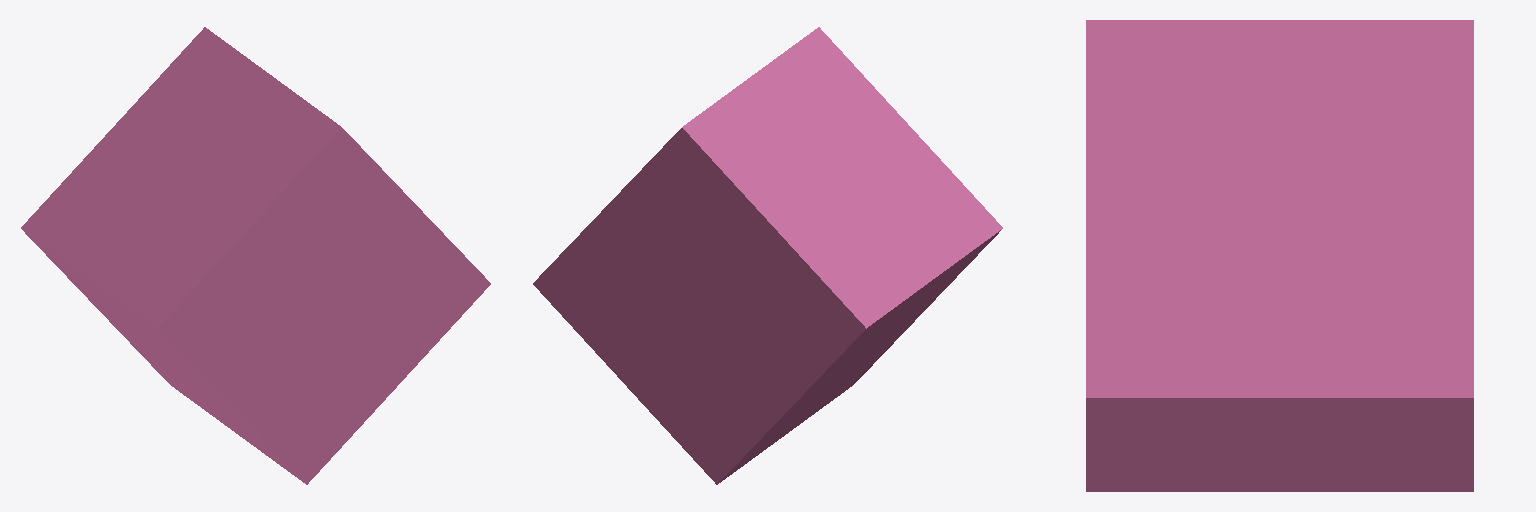
URDF robot description (zx120):
<?xml version="1.0" encoding="utf-8"?>
<!-- =================================================================================== -->
<!-- |    This document was autogenerated by xacro from zx120.xacro                    | -->
<!-- |    EDITING THIS FILE BY HAND IS NOT RECOMMENDED                                 | -->
<!-- =================================================================================== -->
<robot name="zx120">
  <!-- ros_control plugin -->
  <gazebo>
    <plugin filename="libgazebo_ros_control.so" name="gazebo_ros_control">
      <!-- <robotNamespace>/zx120</robotNamespace>
			<robotSimType>gazebo_ros_control/DefaultRobotHWSim</robotSimType> -->
    </plugin>
  </gazebo>
  <gazebo reference="track_link">
    <material>zx120texture</material>
  </gazebo>
  <gazebo reference="body_link">
    <material>zx120texture</material>
  </gazebo>
  <gazebo reference="boom_link">
    <material>zx120texture</material>
  </gazebo>
  <gazebo reference="arm_link">
    <material>zx120texture</material>
  </gazebo>
  <gazebo reference="bucket_link">
    <material>zx120texture</material>
  </gazebo>
  <gazebo reference="bucket_link">
    <material>zx120texture</material>
  </gazebo>
  <gazebo reference="boom_cylinder_head_link">
    <material>zx120texture</material>
  </gazebo>
  <gazebo reference="boom_cylinder_rod_link">
    <material>zx120texture</material>
  </gazebo>
  <gazebo reference="arm_cylinder_head_link">
    <material>zx120texture</material>
  </gazebo>
  <gazebo reference="arm_cylinder_rod_link">
    <material>zx120texture</material>
  </gazebo>
  <gazebo reference="bucket_cylinder_head_link">
    <material>zx120texture</material>
  </gazebo>
  <gazebo reference="bucket_cylinder_rod_link">
    <material>zx120texture</material>
  </gazebo>
  <gazebo reference="bucket_b_link">
    <material>zx120texture</material>
  </gazebo>
  <gazebo reference="bucket_a_link">
    <material>zx120texture</material>
  </gazebo>
  <!-- Import Rviz colors -->
  <!-- <xacro:include filename="$(find zx120_description)/urdf/materials.xacro" /> -->
  <!-- Base Link -->
  <link name="base_link"/>
  <joint name="base_joint" type="fixed">
      <origin rpy="0 0 0" xyz="0 0 0.01"/>
    <parent link="base_link"/>
    <child link="track_link"/>
  </joint>
  <!-- Base Link -->
  <link name="track_link">
    <visual>
      <geometry>
        <mesh filename="package://zx120_description/meshes/zx120-crawler.dae"/>
      </geometry>
    </visual>
    <collision>
      <geometry>
        <mesh filename="package://zx120_description/meshes/zx120-crawler.dae"/>
      </geometry>
    </collision>
    <inertial>
      <origin rpy="0 0 0" xyz="-0.155869 0 0.358402"/>
      <mass value="1"/>
      <inertia ixx="1.0" ixy="0.0" ixz="0.0" iyy="1.0" iyz="0.0" izz="1.0"/>
    </inertial>
  </link>
  <!-- body axis -->
  <joint name="swing_joint" type="continuous">
    <origin xyz="0 0 1"/>
    <axis xyz="0 0 2"/>
    <parent link="track_link"/>
    <child link="body_link"/>
  </joint>
  <link name="body_link">
    <visual>
      <origin xyz="0 0 0"/>
      <geometry>
        <mesh filename="package://zx120_description/meshes/zx120-body.dae"/>
      </geometry>
    </visual>
    <collision>
      <origin xyz="0 0 0"/>
      <geometry>
        <mesh filename="package://zx120_description/meshes/zx120-body.dae"/>
      </geometry>
    </collision>
    <inertial>
      <origin rpy="0 0 0" xyz="-0.501522 0 1.191169"/>
      <mass value="0.03"/>
      <inertia ixx="1.0" ixy="0.0" ixz="0.0" iyy="1.0" iyz="0.0" izz="1.0"/>
    </inertial>
  </link>
  <!-- boom axis -->
  <joint name="boom_joint" type="revolute">
    <origin rpy="0 1.57079632679 0" xyz="0.14 -0.16443 0.424"/>
    <axis xyz="0 1 0"/>
    <parent link="body_link"/>
    <child link="boom_link"/>
    <limit effort="500" lower="-1.2217304764" upper="0.767944870878" velocity="6.159937255"/>
  </joint>
  <link name="boom_link">
    <visual>
      <origin rpy="0 -1.185 0" xyz="0 0 0"/>
      <geometry>
        <mesh filename="package://zx120_description/meshes/zx120-boom.dae"/>
      </geometry>
    </visual>
    <collision>
      <origin rpy="0 -1.185 0" xyz="0 0 0"/>
      <geometry>
        <mesh filename="package://zx120_description/meshes/zx120-boom.dae"/>
      </geometry>
    </collision>
    <inertial>
      <origin rpy="0 0 0" xyz="2.091062 0.055029 0.975556"/>
      <mass value="0.03"/>
      <inertia ixx="1.0" ixy="0.0" ixz="0.0" iyy="1.0" iyz="0.0" izz="1.0"/>
    </inertial>
  </link>
  <joint name="arm_joint" type="revolute">
    <!-- <origin xyz="3.91812248 0 2.410044861"/> -->
    <origin xyz="0 0 4.6"/>
    <axis xyz="0 1 0"/>
    <parent link="boom_link"/>
    <child link="arm_link"/>
    <!-- <limit lower="-1.279421828" upper="0.849879859" effort="500" velocity="6.159937255"/> -->
    <limit effort="1" lower="0.523598775598" upper="2.65290046303" velocity="0.5"/>
  </joint>
  <link name="arm_link">
    <visual>
      <origin rpy="0 3.28 0" xyz="0 0 0"/>
      <geometry>
        <mesh filename="package://zx120_description/meshes/zx120-arm.dae"/>
      </geometry>
    </visual>
    <collision>
      <origin rpy="0 3.28 0" xyz="0 0 0"/>
      <geometry>
        <mesh filename="package://zx120_description/meshes/zx120-arm.dae"/>
      </geometry>
    </collision>
    <inertial>
      <origin rpy="0 0 0" xyz="0.305996 0.000026 -0.912806"/>
      <mass value="0.03"/>
      <inertia ixx="1.0" ixy="0.0" ixz="0.0" iyy="1.0" iyz="0.0" izz="1.0"/>
    </inertial>
  </link>
  <!-- bucket axis -->
  <joint name="bucket_joint" type="revolute">
    <!-- <origin xyz="0.790541414 0 -2.391736874"/> -->
    <origin xyz="0 0 2.519"/>
    <axis xyz="0 1 0"/>
    <parent link="arm_link"/>
    <child link="bucket_link"/>
    <!-- <limit lower="-1.593223372" upper="1.478556111" effort="500" velocity="6.159937255"/> -->
    <limit effort="1" lower="-0.575958653158" upper="2.49582083035" velocity="0.5"/>
  </joint>
  <link name="bucket_link">
    <visual>
      <origin rpy="0 0.75 0" xyz="0 0 0"/>
      <geometry>
        <mesh filename="package://zx120_description/meshes/zx120-bucket.dae"/>
      </geometry>
    </visual>
    <collision>
      <origin rpy="0 0.75 0" xyz="0 0 0"/>
      <geometry>
        <mesh filename="package://zx120_description/meshes/zx120-bucket.dae"/>
      </geometry>
    </collision>
    <inertial>
      <origin rpy="0 0 0" xyz="-0.442405 0.001740 0.247894"/>
      <mass value="0.03"/>
      <inertia ixx="1.0" ixy="0.0" ixz="0.0" iyy="1.0" iyz="0.0" izz="1.0"/>
    </inertial>
  </link>
  <link name="bucket_end_link">
    <visual>
      <origin rpy="0 0 0" xyz="0 0 0"/>
      <geometry>
        <box size="0.001 0.001 0.001"/>
      </geometry>
      <material name="red"/>
    </visual>
    <inertial>
      <origin xyz="0 0 0"/>
      <mass value="1.0e-03"/>
      <inertia ixx="1.0e-03" ixy="0.0" ixz="0.0" iyy="1.0e-03" iyz="0.0" izz="1.0e-03"/>
    </inertial>
  </link>
  <joint name="bucket_end_joint" type="revolute">
    <parent link="bucket_link"/>
    <child link="bucket_end_link"/>
    <axis xyz="1 0 0"/>
    <!-- <origin rpy="0 0 0" xyz="0 0 1.23"/> -->
    <!-- <origin rpy="0 0 0" xyz="-0.723 0 0.995"/> -->
    <!-- <origin rpy="0 0 0" xyz="-0.85 0 0.889"/> -->
    <origin rpy="0 0.872664625997 0" xyz="0 0 1.23"/>
    <limit effort="1" lower="-3.14" upper="3.14" velocity="0.5"/>
  </joint>
  <transmission name="tran1">
    <type>transmission_interface/SimpleTransmission</type>
    <joint name="swing_joint">
      <hardwareInterface>hardware_interface/PositionJointInterface</hardwareInterface>
    </joint>
    <actuator name="motor1">
      <hardwareInterface>hardware_interface/PositionJointInterface</hardwareInterface>
      <mechanicalReduction>1</mechanicalReduction>
    </actuator>
  </transmission>
  <transmission name="tran2">
    <type>transmission_interface/SimpleTransmission</type>
    <joint name="boom_joint">
      <hardwareInterface>hardware_interface/PositionJointInterface</hardwareInterface>
    </joint>
    <actuator name="motor2">
      <hardwareInterface>hardware_interface/PositionJointInterface</hardwareInterface>
      <mechanicalReduction>1</mechanicalReduction>
    </actuator>
  </transmission>
  <transmission name="tran3">
    <type>transmission_interface/SimpleTransmission</type>
    <joint name="arm_joint">
      <hardwareInterface>hardware_interface/PositionJointInterface</hardwareInterface>
    </joint>
    <actuator name="motor3">
      <hardwareInterface>hardware_interface/PositionJointInterface</hardwareInterface>
      <mechanicalReduction>1</mechanicalReduction>
    </actuator>
  </transmission>
  <transmission name="tran4">
    <type>transmission_interface/SimpleTransmission</type>
    <joint name="bucket_joint">
      <hardwareInterface>hardware_interface/PositionJointInterface</hardwareInterface>
    </joint>
    <actuator name="motor4">
      <hardwareInterface>hardware_interface/PositionJointInterface</hardwareInterface>
      <mechanicalReduction>1</mechanicalReduction>
    </actuator>
  </transmission>
  <transmission name="dummy_trans1">
    <type>transmission_interface/SimpleTransmission</type>
    <joint name="bucket_end_joint">
      <hardwareInterface>hardware_interface/PositionJointInterface</hardwareInterface>
    </joint>
    <actuator name="dummy_motor1">
      <hardwareInterface>hardware_interface/PositionJointInterface</hardwareInterface>
      <mechanicalReduction>1</mechanicalReduction>
    </actuator>
  </transmission>
  
  <joint name="left_middle_wheel_joint" type="continuous">
    <origin rpy="-1.5707963267948966 0 0" xyz="-0.155869 1 0.35"/>
    <parent link="base_link"/>
    <child link="left_middle_wheel_link"/>
    <axis xyz="0 0 1"/>
  </joint>
  <transmission name="left_middle_wheel_trans" type="SimpleTransmission">
    <type>transmission_interface/SimpleTransmission</type>
    <actuator name="left_middle_wheel_motor">
      <mechanicalReduction>1</mechanicalReduction>
    </actuator>
    <joint name="left_middle_wheel_joint">
      <hardwareInterface>hardware_interface/VelocityJointInterface</hardwareInterface>
    </joint>
  </transmission>
  <link name="left_middle_wheel_link">
    <inertial>
      <origin rpy="0 0 0" xyz="0 0 0"/>
      <mass value="10"/>
      <inertia ixx="5" ixy="0.0" ixz="0.0" iyy="5" iyz="0.0" izz="5"/>
    </inertial>
    <!-- <visual>
      <geometry>
        <cylinder radius="0.35" length="0.5" />
      </geometry>
    </visual> -->
    <collision>
      <geometry>
        <cylinder length="0.5" radius="0.35"/>
      </geometry>
    </collision>
  </link>
  <gazebo reference="left_middle_wheel_link">
    <!--material>Gazebo/Red</material-->
    <mu1 value="0.7"/>
    <mu2 value="0.6"/>
    <kp value="7.5e+5"/>
    <kd value="0.001"/>
  </gazebo>
  <joint name="left_front_wheel_joint" type="continuous">
    <origin rpy="-1.5707963267948966 0 0" xyz="1.284131 1 0.35"/>
    <parent link="base_link"/>
    <child link="left_front_wheel_link"/>
    <axis xyz="0 0 1"/>
  </joint>
  <transmission name="left_front_wheel_trans" type="SimpleTransmission">
    <type>transmission_interface/SimpleTransmission</type>
    <actuator name="left_front_wheel_motor">
      <mechanicalReduction>1</mechanicalReduction>
    </actuator>
    <joint name="left_front_wheel_joint">
      <hardwareInterface>hardware_interface/VelocityJointInterface</hardwareInterface>
    </joint>
  </transmission>
  <link name="left_front_wheel_link">
    <inertial>
      <origin rpy="0 0 0" xyz="0 0 0"/>
      <mass value="10"/>
      <inertia ixx="5" ixy="0.0" ixz="0.0" iyy="5" iyz="0.0" izz="5"/>
    </inertial>
    <!-- <visual>
      <geometry>
        <cylinder radius="0.35" length="0.5" />
      </geometry>
    </visual> -->
    <collision>
      <geometry>
        <cylinder length="0.5" radius="0.35"/>
      </geometry>
    </collision>
  </link>
  <gazebo reference="left_front_wheel_link">
    <!--material>Gazebo/Red</material-->
    <mu1 value="0.7"/>
    <mu2 value="0.6"/>
    <kp value="7.5e+5"/>
    <kd value="0.001"/>
  </gazebo>

  <joint name="left_rear_wheel_joint" type="continuous">
    <origin rpy="-1.5707963267948966 0 0" xyz="-1.595869 1 0.35"/>
    <parent link="base_link"/>
    <child link="left_rear_wheel_link"/>
    <axis xyz="0 0 1"/>
  </joint>
  <transmission name="left_rear_wheel_trans" type="SimpleTransmission">
    <type>transmission_interface/SimpleTransmission</type>
    <actuator name="left_rear_wheel_motor">
      <mechanicalReduction>1</mechanicalReduction>
    </actuator>
    <joint name="left_rear_wheel_joint">
      <hardwareInterface>hardware_interface/VelocityJointInterface</hardwareInterface>
    </joint>
  </transmission>
  <link name="left_rear_wheel_link">
    <inertial>
      <origin rpy="0 0 0" xyz="0 0 0"/>
      <mass value="10"/>
      <inertia ixx="5" ixy="0.0" ixz="0.0" iyy="5" iyz="0.0" izz="5"/>
    </inertial>
    <!-- <visual>
      <geometry>
        <cylinder radius="0.35" length="0.5" />
      </geometry>
    </visual> -->
    <collision>
      <geometry>
        <cylinder length="0.5" radius="0.35"/>
      </geometry>
    </collision>
  </link>
  <gazebo reference="left_rear_wheel_link">
    <!--material>Gazebo/Red</material-->
    <mu1 value="0.7"/>
    <mu2 value="0.6"/>
    <kp value="7.5e+5"/>
    <kd value="0.001"/>
  </gazebo>
  <joint name="right_middle_wheel_joint" type="continuous">
    <origin rpy="-1.5707963267948966 0 0" xyz="-0.155869 -1 0.35"/>
    <parent link="base_link"/>
    <child link="right_middle_wheel_link"/>
    <axis xyz="0 0 1"/>
  </joint>
  <transmission name="right_middle_wheel_trans" type="SimpleTransmission">
    <type>transmission_interface/SimpleTransmission</type>
    <actuator name="right_middle_wheel_motor">
      <mechanicalReduction>1</mechanicalReduction>
    </actuator>
    <joint name="right_middle_wheel_joint">
      <hardwareInterface>hardware_interface/VelocityJointInterface</hardwareInterface>
    </joint>
  </transmission>
  <link name="right_middle_wheel_link">
    <inertial>
      <origin rpy="0 0 0" xyz="0 0 0"/>
      <mass value="10"/>
      <inertia ixx="5" ixy="0.0" ixz="0.0" iyy="5" iyz="0.0" izz="5"/>
    </inertial>
    <!-- <visual>
      <geometry>
        <cylinder radius="0.35" length="0.5" />
      </geometry>
    </visual> -->
    <collision>
      <geometry>
        <cylinder length="0.5" radius="0.35"/>
      </geometry>
    </collision>
  </link>
  <gazebo reference="right_middle_wheel_link">
    <!--material>Gazebo/Red</material-->
    <mu1 value="0.7"/>
    <mu2 value="0.6"/>
    <kp value="7.5e+5"/>
    <kd value="0.001"/>
  </gazebo>
  <joint name="right_front_wheel_joint" type="continuous">
    <origin rpy="-1.5707963267948966 0 0" xyz="1.284131 -1 0.35"/>
    <parent link="base_link"/>
    <child link="right_front_wheel_link"/>
    <axis xyz="0 0 1"/>
  </joint>
  <transmission name="right_front_wheel_trans" type="SimpleTransmission">
    <type>transmission_interface/SimpleTransmission</type>
    <actuator name="right_front_wheel_motor">
      <mechanicalReduction>1</mechanicalReduction>
    </actuator>
    <joint name="right_front_wheel_joint">
      <hardwareInterface>hardware_interface/VelocityJointInterface</hardwareInterface>
    </joint>
  </transmission>
  <link name="right_front_wheel_link">
    <inertial>
      <origin rpy="0 0 0" xyz="0 0 0"/>
      <mass value="10"/>
      <inertia ixx="5" ixy="0.0" ixz="0.0" iyy="5" iyz="0.0" izz="5"/>
    </inertial>
    <!-- <visual>
      <geometry>
        <cylinder radius="0.35" length="0.5" />
      </geometry>
    </visual> -->
    <collision>
      <geometry>
        <cylinder length="0.5" radius="0.35"/>
      </geometry>
    </collision>
  </link>
  <gazebo reference="right_front_wheel_link">
    <!--material>Gazebo/Red</material-->
    <mu1 value="0.7"/>
    <mu2 value="0.6"/>
    <kp value="7.5e+5"/>
    <kd value="0.001"/>
  </gazebo>

  <joint name="right_rear_wheel_joint" type="continuous">
    <origin rpy="-1.5707963267948966 0 0" xyz="-1.595869 -1 0.35"/>
    <parent link="base_link"/>
    <child link="right_rear_wheel_link"/>
    <axis xyz="0 0 1"/>
  </joint>
  <transmission name="right_rear_wheel_trans" type="SimpleTransmission">
    <type>transmission_interface/SimpleTransmission</type>
    <actuator name="right_rear_wheel_motor">
      <mechanicalReduction>1</mechanicalReduction>
    </actuator>
    <joint name="right_rear_wheel_joint">
      <hardwareInterface>hardware_interface/VelocityJointInterface</hardwareInterface>
    </joint>
  </transmission>
  <link name="right_rear_wheel_link">
    <inertial>
      <origin rpy="0 0 0" xyz="0 0 0"/>
      <mass value="10"/>
      <inertia ixx="5" ixy="0.0" ixz="0.0" iyy="5" iyz="0.0" izz="5"/>
    </inertial>
    <!-- <visual>
      <geometry>
        <cylinder radius="0.35" length="0.5" />
      </geometry>
    </visual> -->
    <collision>
      <geometry>
        <cylinder length="0.5" radius="0.35"/>
      </geometry>
    </collision>
  </link>
  <gazebo reference="right_rear_wheel_link">
    <!--material>Gazebo/Red</material-->
    <mu1 value="0.7"/>
    <mu2 value="0.6"/>
    <kp value="7.5e+5"/>
    <kd value="0.001"/>
  </gazebo>

</robot>

--- What the picture shows (computed from the rendered views, not written in the file) ---
The picture shows the robot from 3 angles, left to right: view 1: azimuth 30°, elevation 25°; view 2: azimuth 150°, elevation 25°; view 3: azimuth 270°, elevation 25°; orthographic projection.
Robot: zx120 — 13 links, 12 joints (4 revolute, 7 continuous, 1 fixed); root link base_link; default pose: joints at zero except 1 at the middle of their limits (arm_joint = 1.59).
Links seen in each view (by area): view 1: bucket_end_link; view 2: bucket_end_link; view 3: bucket_end_link.
Boxes of the visible links, <box> form: bucket_end_link: <box>21,27,490,484</box>; bucket_end_link: <box>533,27,1002,484</box>; bucket_end_link: <box>1086,20,1473,491</box>.
Size in the robot's own frame: 0.0014 by 0.001 by 0.0014 metres.
Meshes: 5 distinct files referenced, 0 mesh visuals loaded (none loaded); not drawn: 5 (reference not matched to a file when rendering).